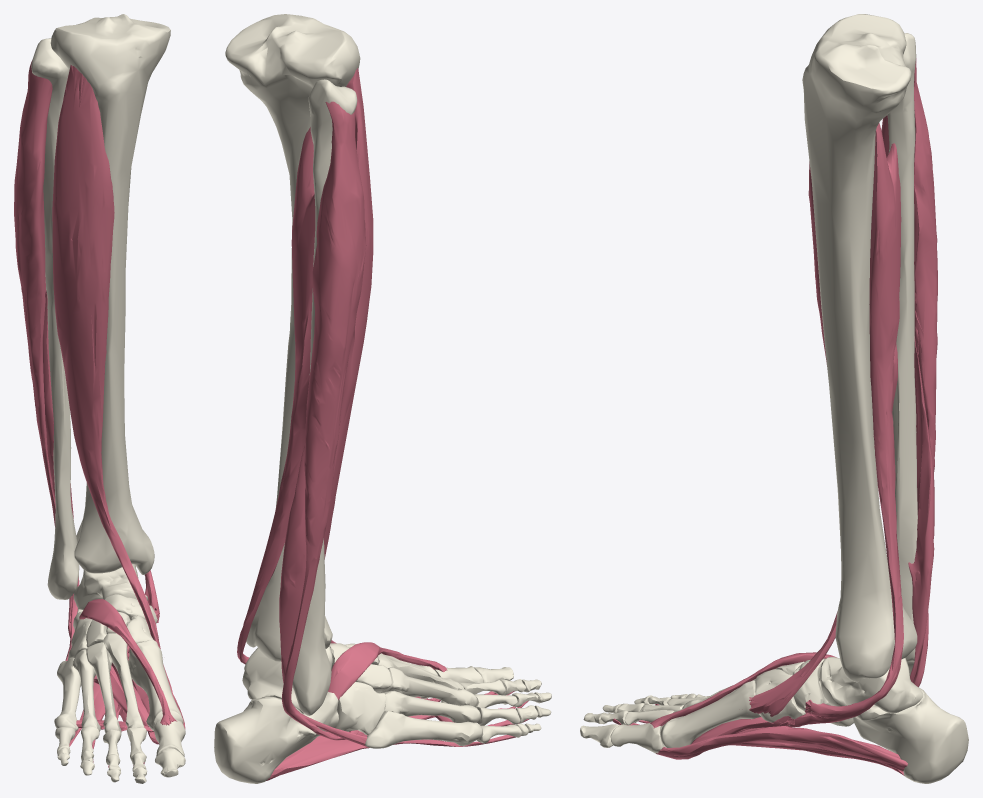
The model's file is foot.glb.
The picture shows the model from 3 angles, left to right: view 1: azimuth 30°, elevation 25°; view 2: azimuth 150°, elevation 25°; view 3: azimuth 270°, elevation 25°; orthographic projection. The views are drawn at different scales.
Visible parts, largest first — view 1: tibialis-anterior, tibia, fibularis-longus, fibula, metatarsal-1, extensor-hallucis-brevis, talus, fibularis-brevis, metatarsal-2, metatarsal-3, metatarsal-5, metatarsal-4 (+13 smaller); view 2: fibularis-longus, tibia, tibialis-posterior, fibula, calcaneus, tibialis-anterior, fibularis-brevis, metatarsal-5, flexor-digitorum-brevis, extensor-hallucis-brevis, cuboid, talus (+4 smaller); view 3: tibia, tibialis-posterior, fibula, fibularis-longus, calcaneus, fibularis-brevis, abductor-hallucis, talus, metatarsal-1, tibialis-anterior, extensor-hallucis-brevis, flexor-hallucis-brevis (+4 smaller).
Boxes of the visible parts, x1,y1,x2,y2 form: tibialis-anterior: (52, 65, 160, 648); tibia: (50, 14, 170, 574); fibularis-longus: (14, 60, 129, 660); fibula: (31, 38, 79, 599); metatarsal-1: (128, 639, 183, 731); extensor-hallucis-brevis: (79, 599, 176, 725); talus: (73, 564, 148, 609); fibularis-brevis: (43, 290, 79, 660); metatarsal-2: (103, 633, 144, 728); metatarsal-3: (86, 642, 121, 735); metatarsal-5: (54, 657, 81, 731); metatarsal-4: (73, 649, 100, 731); fibularis-longus: (282, 101, 366, 740); tibia: (225, 14, 360, 661); tibialis-posterior: (237, 127, 315, 664); fibula: (292, 79, 357, 715); calcaneus: (214, 692, 338, 783); tibialis-anterior: (324, 68, 373, 643); fibularis-brevis: (279, 445, 367, 746); metatarsal-5: (365, 711, 482, 748); flexor-digitorum-brevis: (266, 691, 529, 780); extensor-hallucis-brevis: (328, 642, 447, 700); cuboid: (336, 681, 386, 735); talus: (242, 646, 332, 713); tibia: (802, 14, 917, 682); tibialis-posterior: (785, 123, 903, 727); fibula: (887, 33, 917, 675); fibularis-longus: (881, 58, 937, 686); calcaneus: (852, 686, 968, 783); fibularis-brevis: (908, 336, 934, 682); abductor-hallucis: (658, 726, 907, 771); talus: (819, 657, 923, 713); metatarsal-1: (660, 680, 760, 747); tibialis-anterior: (749, 161, 837, 716); extensor-hallucis-brevis: (650, 652, 836, 728); flexor-hallucis-brevis: (656, 716, 791, 759).
Size of the model in its own units: 0.1341 by 0.4467 by 0.212.
